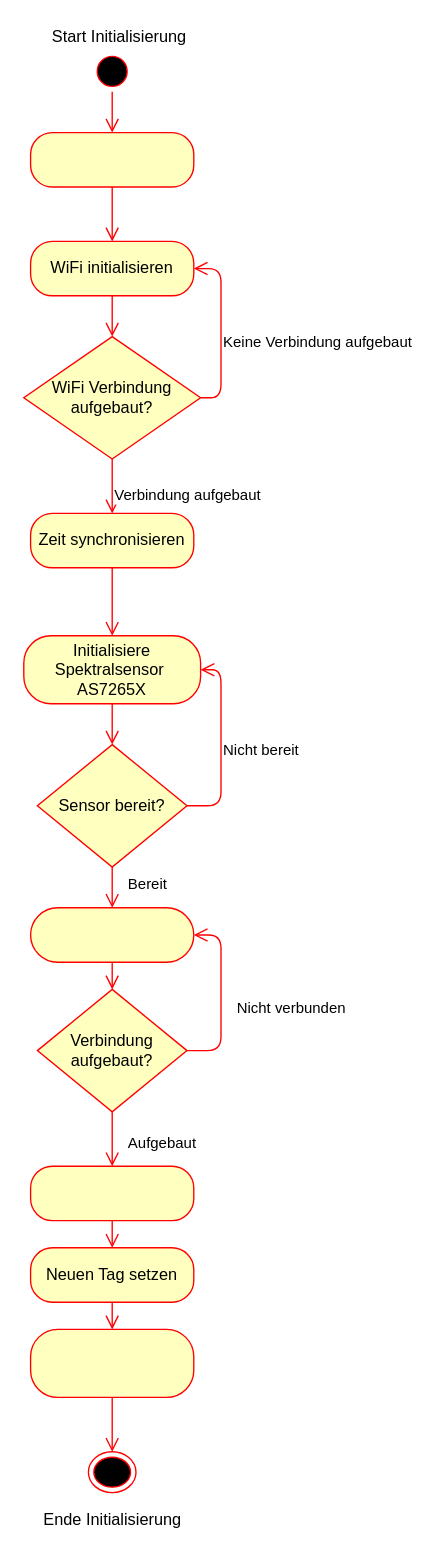
The diagram is 437 pixels wide and 1556 high, and some of its shapes have lost their labels. The shapes that lost their labels are listed below. From the top down, each one's centre as x and y in pixels, then its label:
the point at 111,159: PINs initialisieren
the point at 111,934: InfluxDB Verbindung aufbauen
the point at 111,1193: Neues Measurement setzen
the point at 111,1362: Wiedergeben von "Initialiserung fertig" Signal
